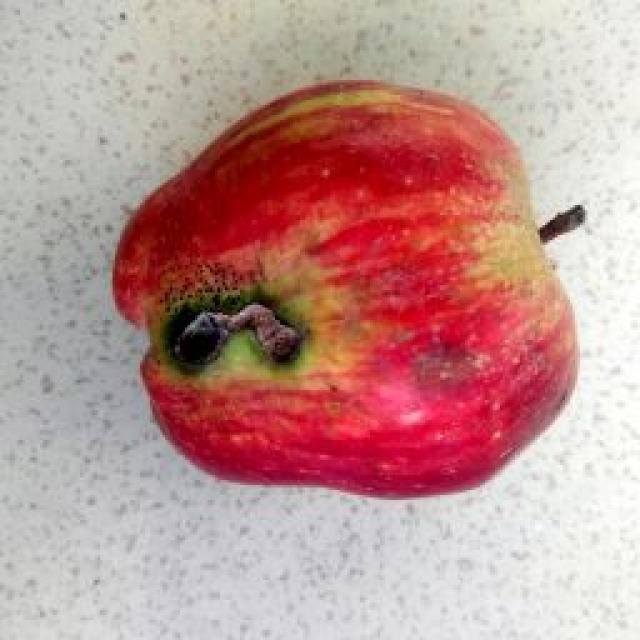Bad_Apple: (116, 81, 576, 496)
